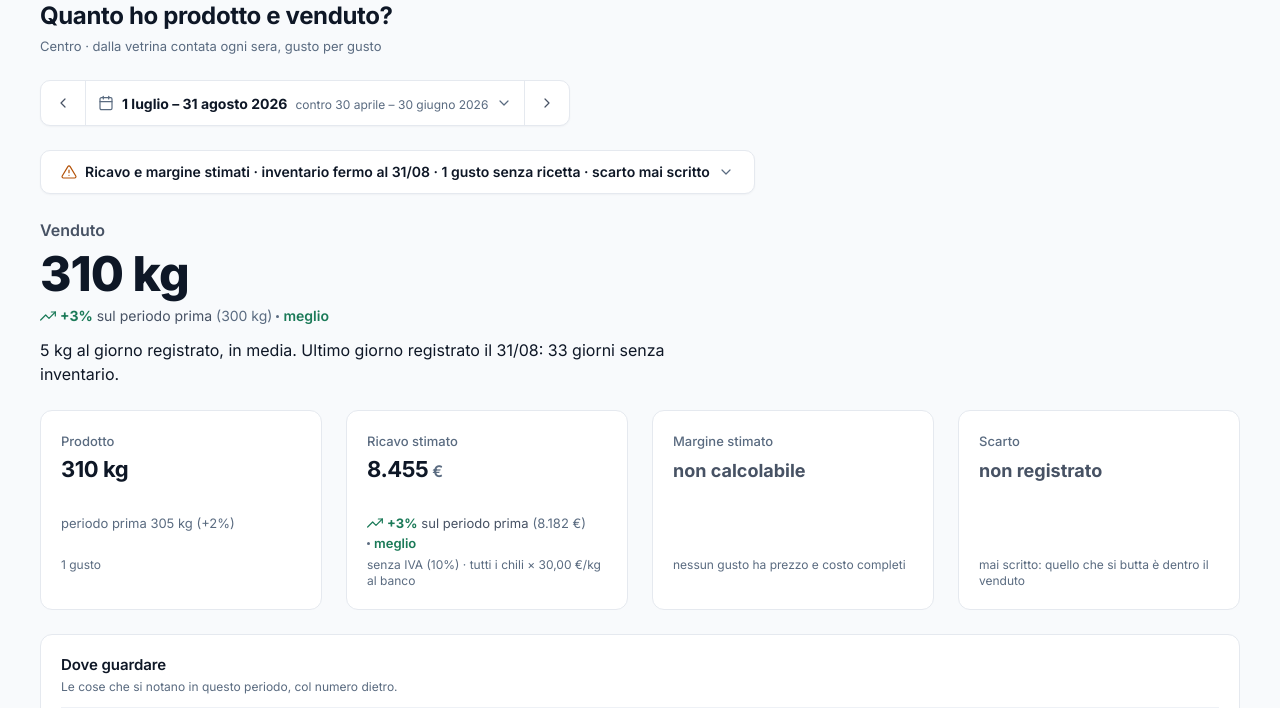
Test: Lo Storico a inventario si apre sui giorni registrati › apre sui due mesi fino all'ultimo giorno registrato, e lo dice
The image size is (1280, 708).
What coordinates should you click on to do the following:
click the button with aria-label "Periodo:"
I would click on:
 (305, 103)
Its box is [85,81,525,125].
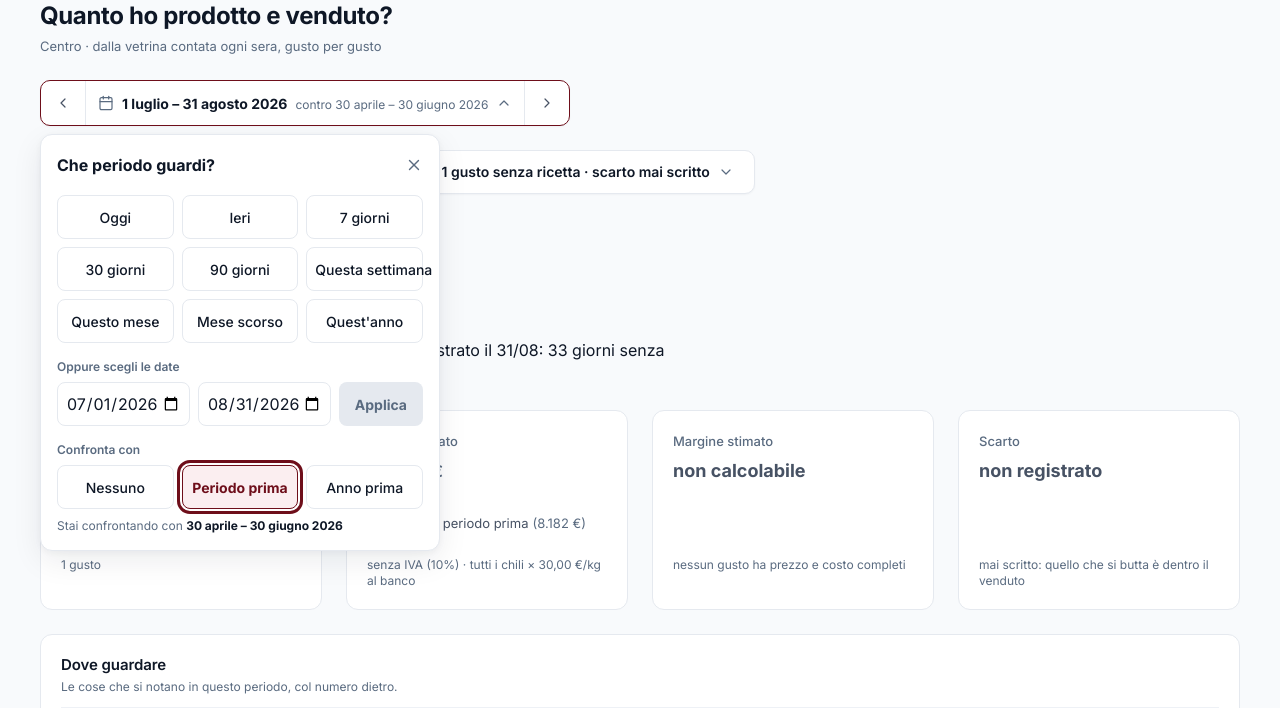
Expected: the date field named "Data di inizio" holds "2026-07-01", [57,382,190,426]
Expected: the date field named "Data di fine" holds "2026-08-31", [198,382,331,426]
